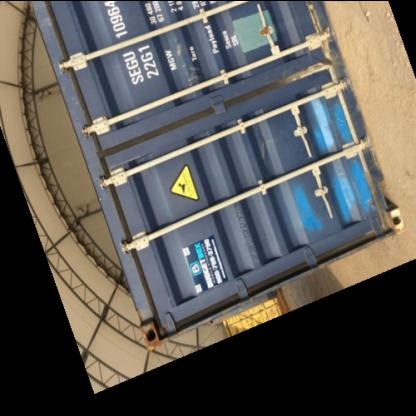Damage: (278, 54, 336, 94)
